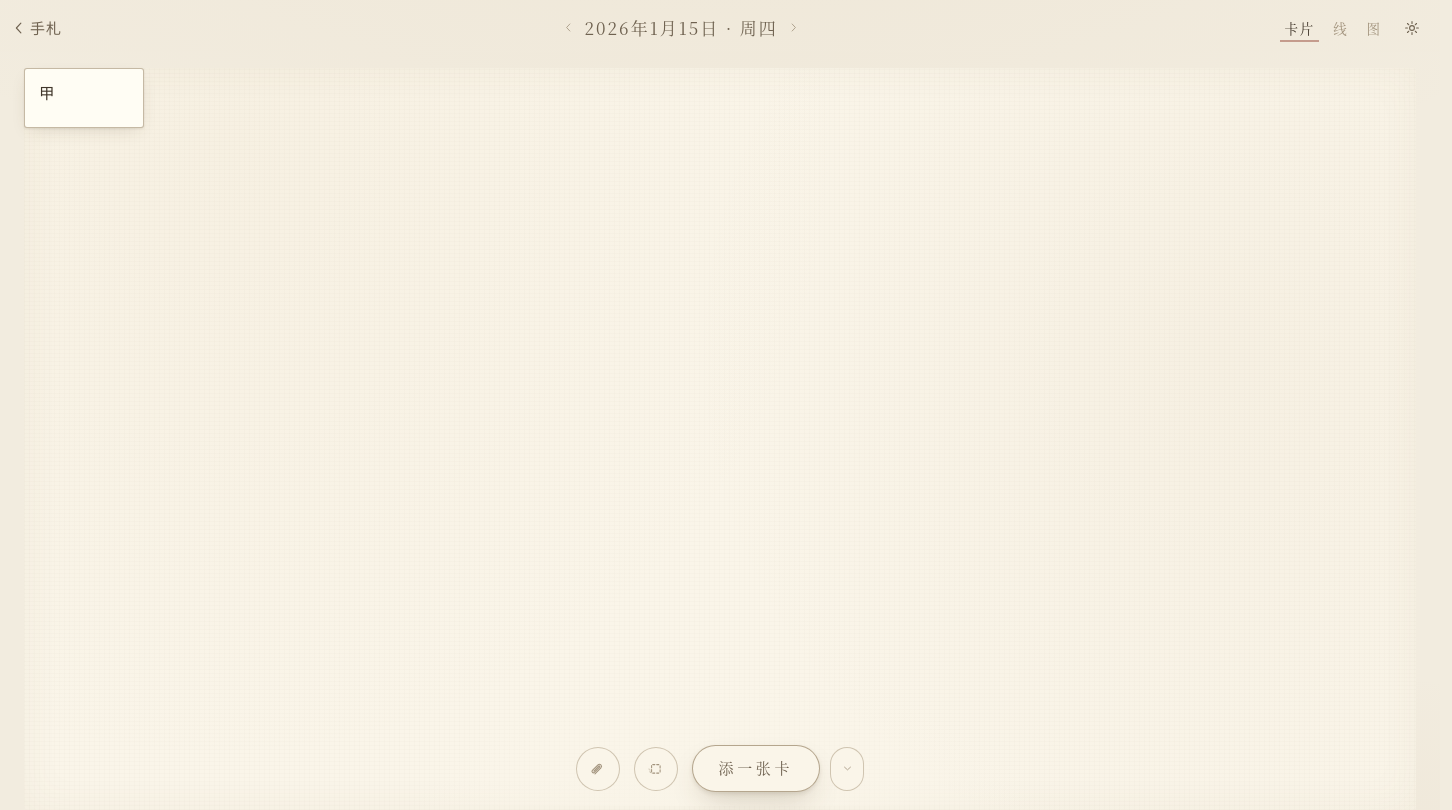
Test: 线模式（D5 交互） › 没挑纸时耳语「挑一张纸，看它牵过的线」
Expected: the text "甲" is shown, [39, 82, 54, 104]
Click the button "线". click: (1341, 28)
box: [1325, 14, 1357, 42]
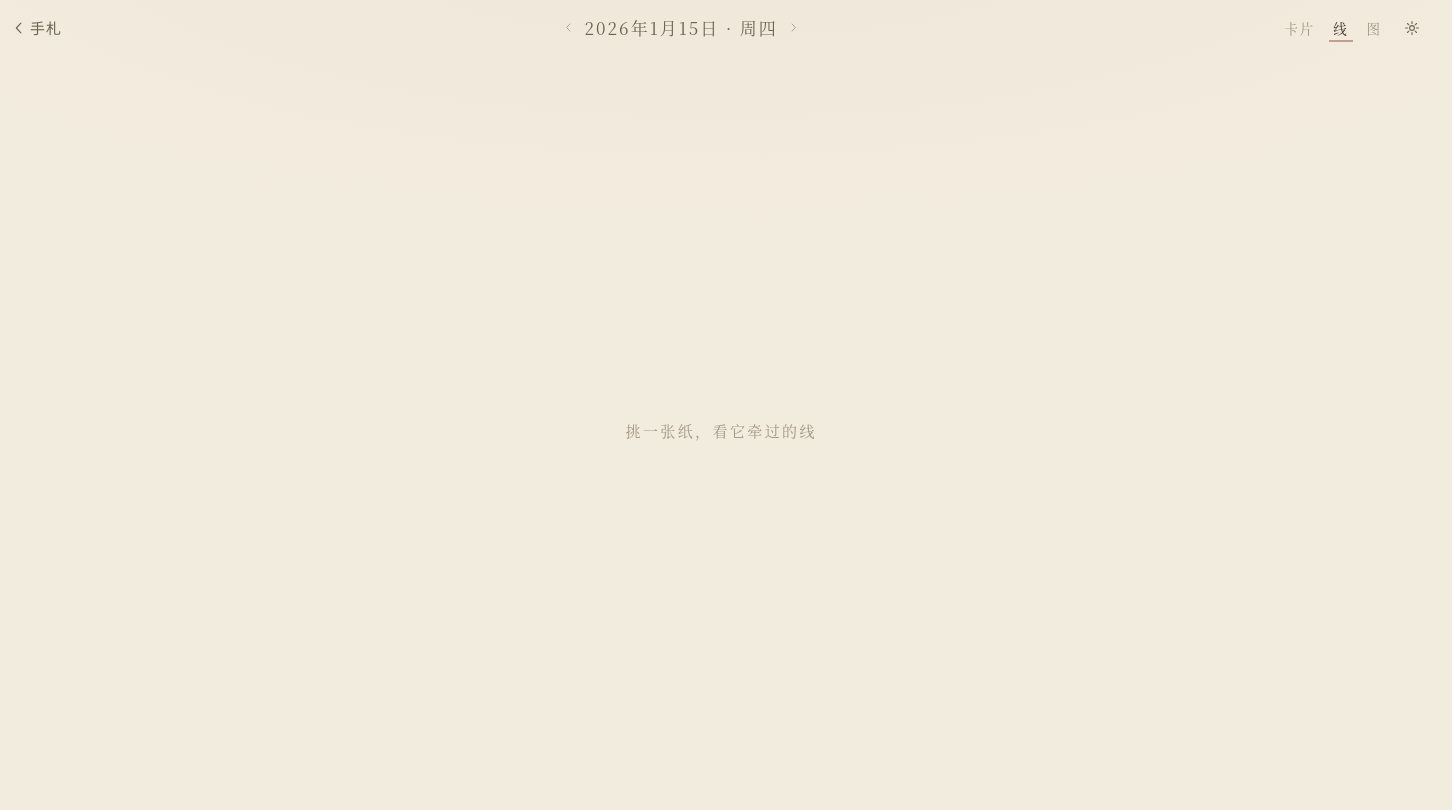
Result: the text "挑一张纸，看它牵过的线" is shown at [626, 419, 817, 443]
Result: the element showing "挑一张纸，看它牵过的线" is shown at [626, 420, 817, 441]
